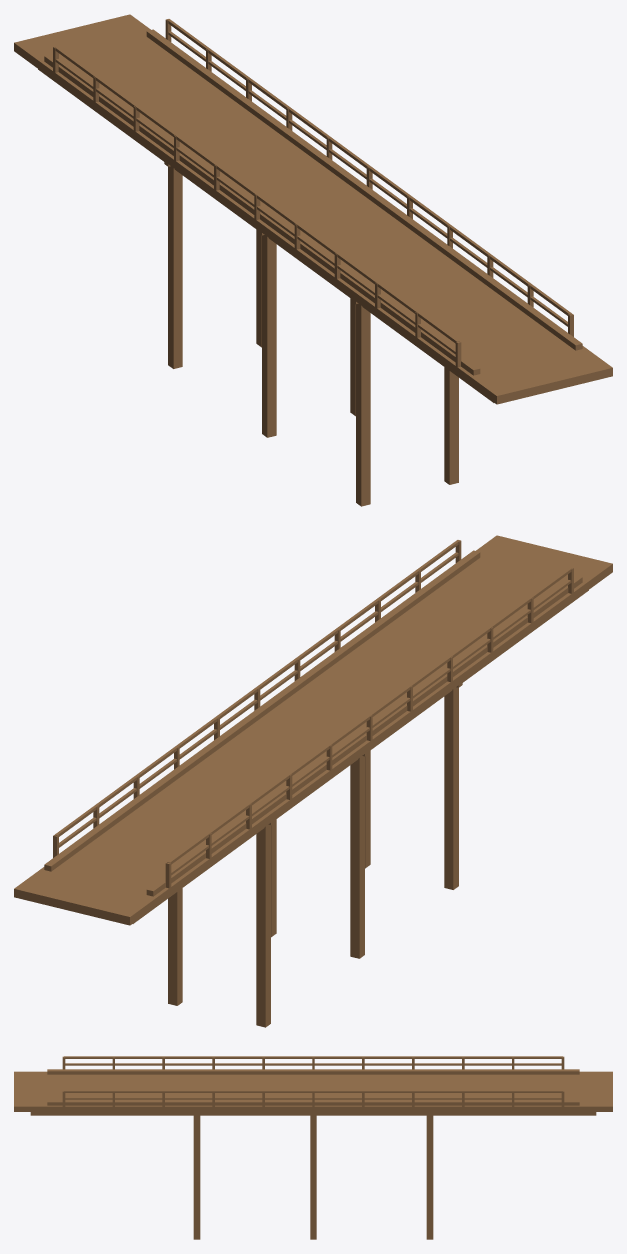
File: wood_bridge.dae
3 views of the same model, one above another, from view 1: azimuth 30°, elevation 25°; view 2: azimuth 150°, elevation 25°; view 3: azimuth 270°, elevation 25° (orthographic). The views are drawn at different scales.
Visible parts, largest first — view 1: bridge_a (×2); view 2: bridge_a (×2); view 3: bridge_a (×2).
Part boxes in pixels (x1,y1,x2,y2): bridge_a (×2): (14,14,612,506); bridge_a (×2): (14,535,612,1027); bridge_a (×2): (14,1056,612,1239).
Size of the model in its own units: 5 by 36 by 10.02.
